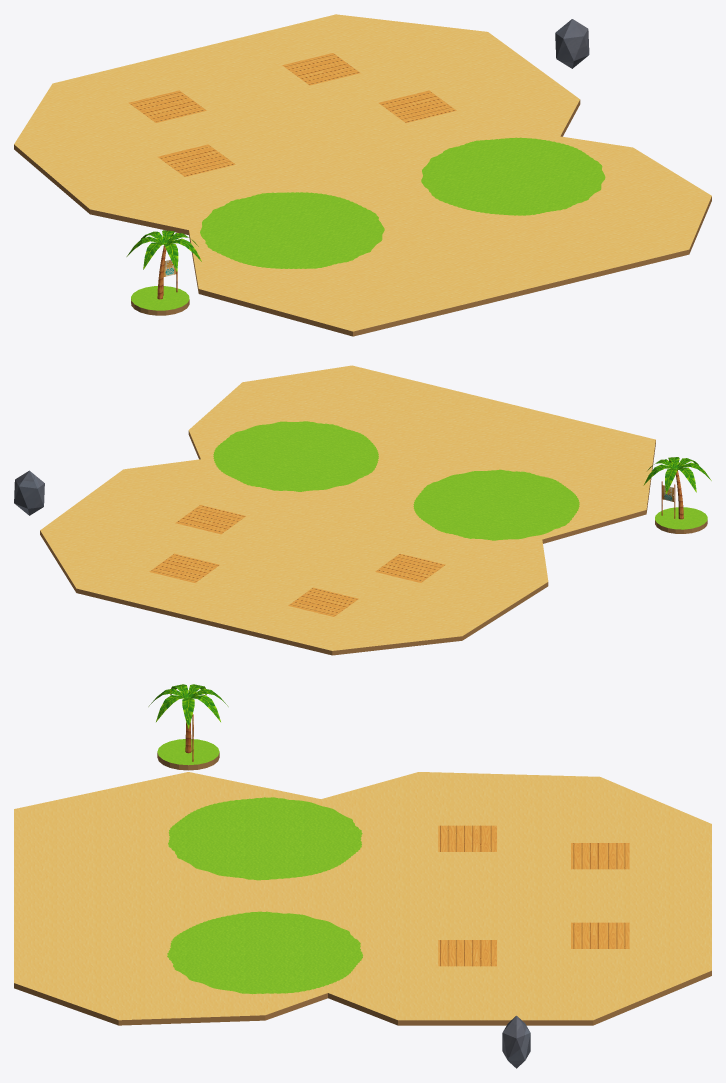
File: surface-15-DeDXupyn.glb
3 renders of one model, top to bottom at view 1: azimuth 30°, elevation 25°; view 2: azimuth 150°, elevation 25°; view 3: azimuth 270°, elevation 25°, orthographic. The views are drawn at different scales.
Visible parts, largest first — view 1: HI_Surface_15, FLC_Regions_15, HI_PalmDeck_3, HI_PalmDeck_0, HI_PalmDeck_2, HI_PalmDeck_1, HI_SceneryIslet_0.004, HI_Palm.003, HI_BasaltOutcrop.004; view 2: HI_Surface_15, FLC_Regions_15, HI_PalmDeck_2, HI_PalmDeck_3, HI_PalmDeck_0, HI_PalmDeck_1, HI_SceneryIslet_0.004, HI_Palm.003, HI_BasaltOutcrop.004; view 3: HI_Surface_15, FLC_Regions_15, HI_PalmDeck_0, HI_PalmDeck_1, HI_PalmDeck_2, HI_PalmDeck_3, HI_SceneryIslet_0.004, HI_Palm.003, HI_BasaltOutcrop.004.
Part boxes in pixels (left/top/right/bottom): HI_Surface_15: left=14, top=14, right=711, bottom=336; FLC_Regions_15: left=200, top=137, right=605, bottom=268; HI_PalmDeck_3: left=282, top=53, right=360, bottom=85; HI_PalmDeck_0: left=157, top=144, right=235, bottom=176; HI_PalmDeck_2: left=128, top=90, right=206, bottom=122; HI_PalmDeck_1: left=379, top=90, right=456, bottom=122; HI_SceneryIslet_0.004: left=131, top=286, right=189, bottom=315; HI_Palm.003: left=126, top=230, right=201, bottom=299; HI_BasaltOutcrop.004: left=555, top=19, right=589, bottom=68; HI_Surface_15: left=40, top=365, right=655, bottom=655; FLC_Regions_15: left=213, top=421, right=579, bottom=540; HI_PalmDeck_2: left=288, top=587, right=358, bottom=616; HI_PalmDeck_3: left=149, top=553, right=219, bottom=582; HI_PalmDeck_0: left=375, top=553, right=445, bottom=582; HI_PalmDeck_1: left=175, top=505, right=245, bottom=534; HI_SceneryIslet_0.004: left=655, top=507, right=707, bottom=533; HI_Palm.003: left=643, top=457, right=711, bottom=519; HI_BasaltOutcrop.004: left=14, top=470, right=44, bottom=515; HI_Surface_15: left=14, top=772, right=711, bottom=1025; FLC_Regions_15: left=167, top=797, right=362, bottom=994; HI_PalmDeck_0: left=438, top=825, right=496, bottom=851; HI_PalmDeck_1: left=438, top=940, right=496, bottom=966; HI_PalmDeck_2: left=571, top=843, right=629, bottom=869; HI_PalmDeck_3: left=571, top=922, right=629, bottom=948; HI_SceneryIslet_0.004: left=157, top=739, right=219, bottom=770; HI_Palm.003: left=148, top=684, right=228, bottom=753; HI_BasaltOutcrop.004: left=502, top=1015, right=530, bottom=1068.
Bounding box in the file's own units: 40.53 × 5.15 × 38.
8 materials, 7 textured.
